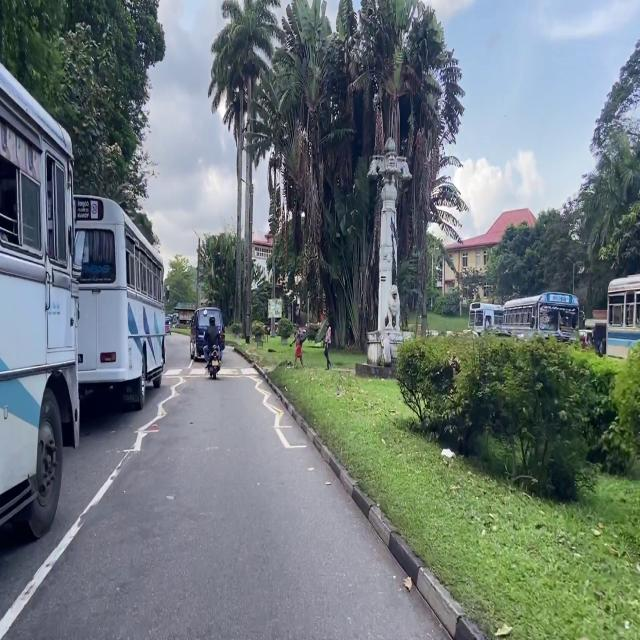bus: (0, 64, 159, 536), (72, 196, 165, 408), (504, 291, 580, 341), (606, 275, 640, 358), (469, 303, 503, 332)
motorcycle: (208, 346, 220, 378)
person: (203, 316, 219, 364), (295, 322, 307, 365), (324, 321, 331, 370)
three wheeler: (165, 316, 171, 335)
van: (190, 307, 224, 359)
